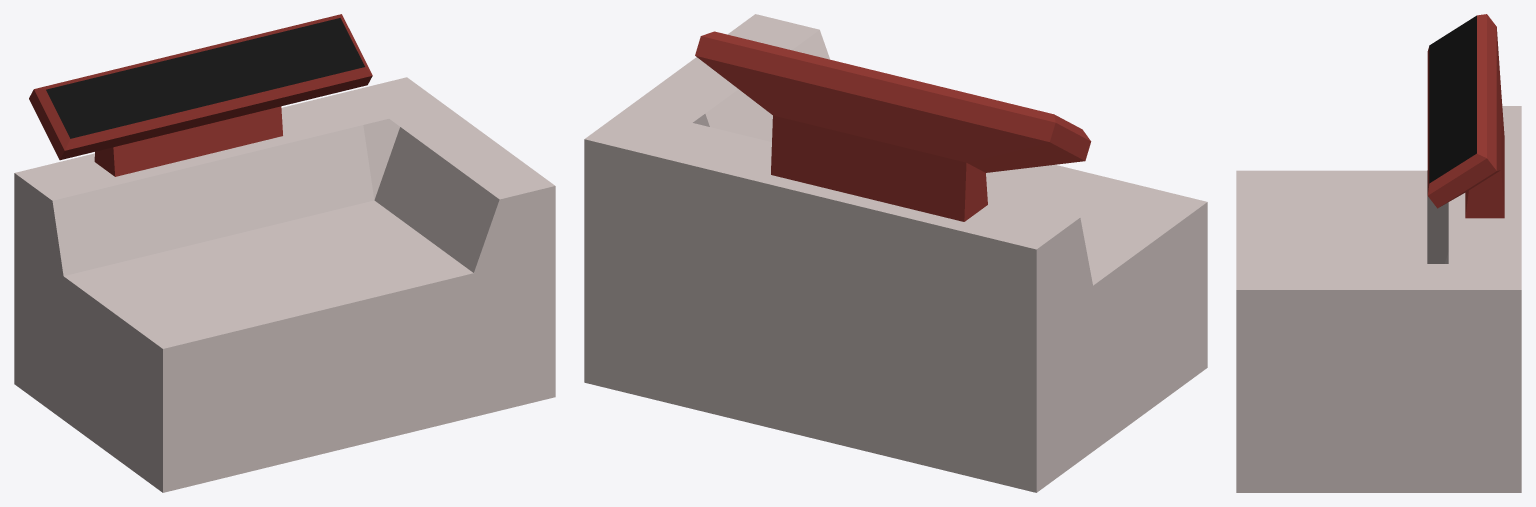
File: eeg_device.glb
3 renders of one model, left to right at view 1: azimuth 30°, elevation 25°; view 2: azimuth 150°, elevation 25°; view 3: azimuth 270°, elevation 25°, orthographic. The views are drawn at different scales.
Visible parts, largest first — view 1: eeg_case; view 2: eeg_case; view 3: eeg_case.
Part boxes in pixels (x1,y1,x2,y2): eeg_case: [14, 14, 555, 492]; eeg_case: [584, 14, 1207, 492]; eeg_case: [1236, 14, 1521, 492].
Bounding box in the file's own units: 1.4 × 1.06 × 0.9177.
